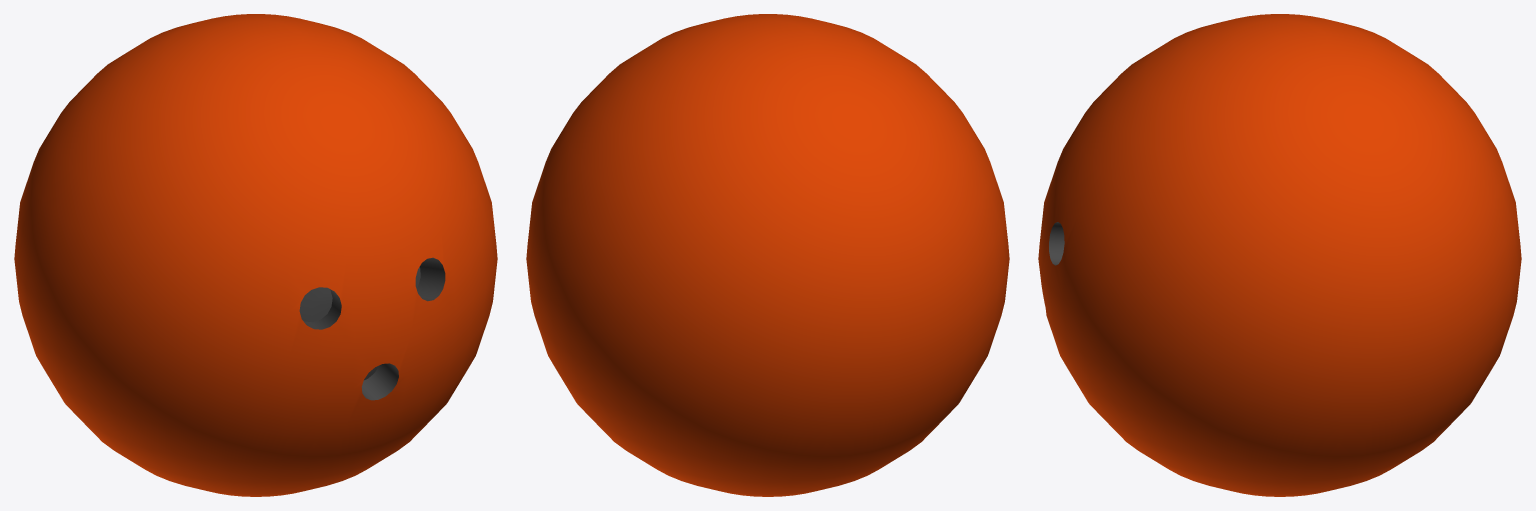
The model's file is Bowling_2.fbx.
The picture shows the model from 3 angles, left to right: view 1: azimuth 30°, elevation 25°; view 2: azimuth 150°, elevation 25°; view 3: azimuth 270°, elevation 25°; orthographic projection.
Parts seen in each view (by area): view 1: Bowling_2; view 2: Bowling_2; view 3: Bowling_2.
Boxes of the visible parts, box(x1,y1,x2,y2) form: Bowling_2: box(14, 14, 497, 496); Bowling_2: box(526, 14, 1009, 496); Bowling_2: box(1038, 14, 1521, 496).
Size of the model in its own units: 0.1996 by 0.1998 by 0.1997.
